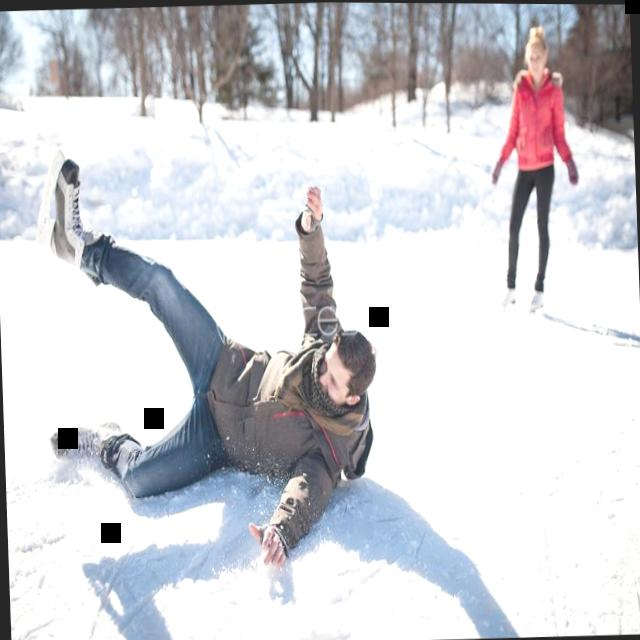Fall-Detected: (14, 122, 406, 589)
